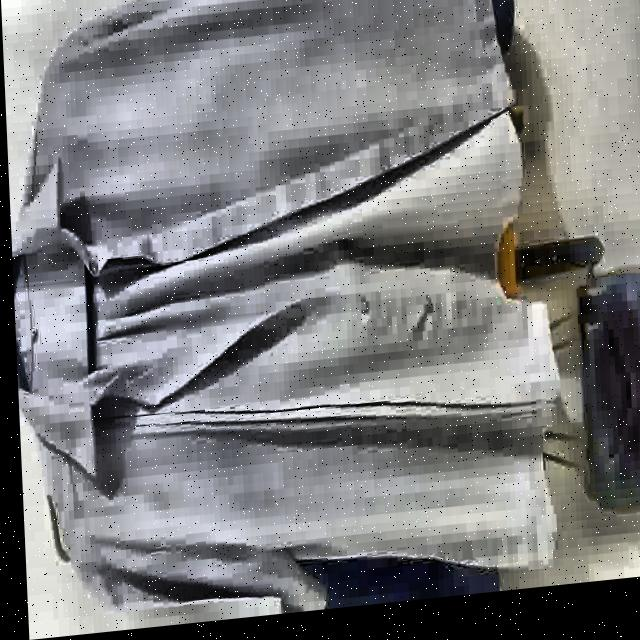clothes: (0, 0, 572, 633)
